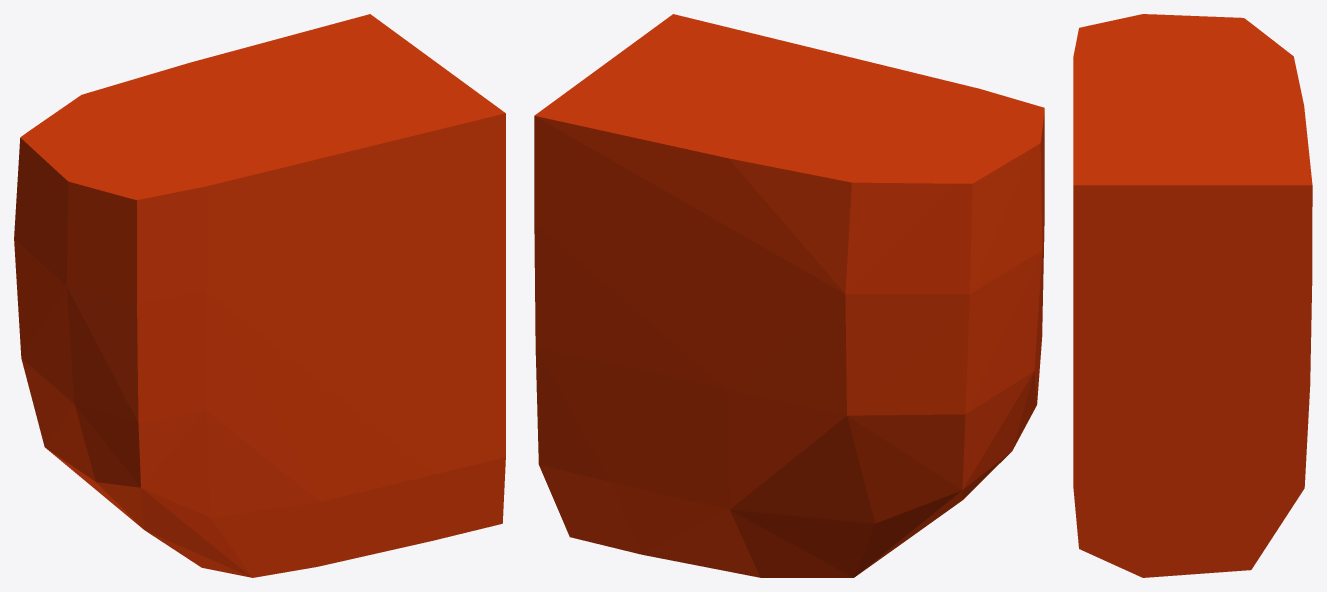
3 views of the same model, side by side, from view 1: azimuth 30°, elevation 25°; view 2: azimuth 150°, elevation 25°; view 3: azimuth 270°, elevation 25° (orthographic). The views are drawn at different scales.
Bounding box in the file's own units: 3.08 × 3.28 × 1.81.
